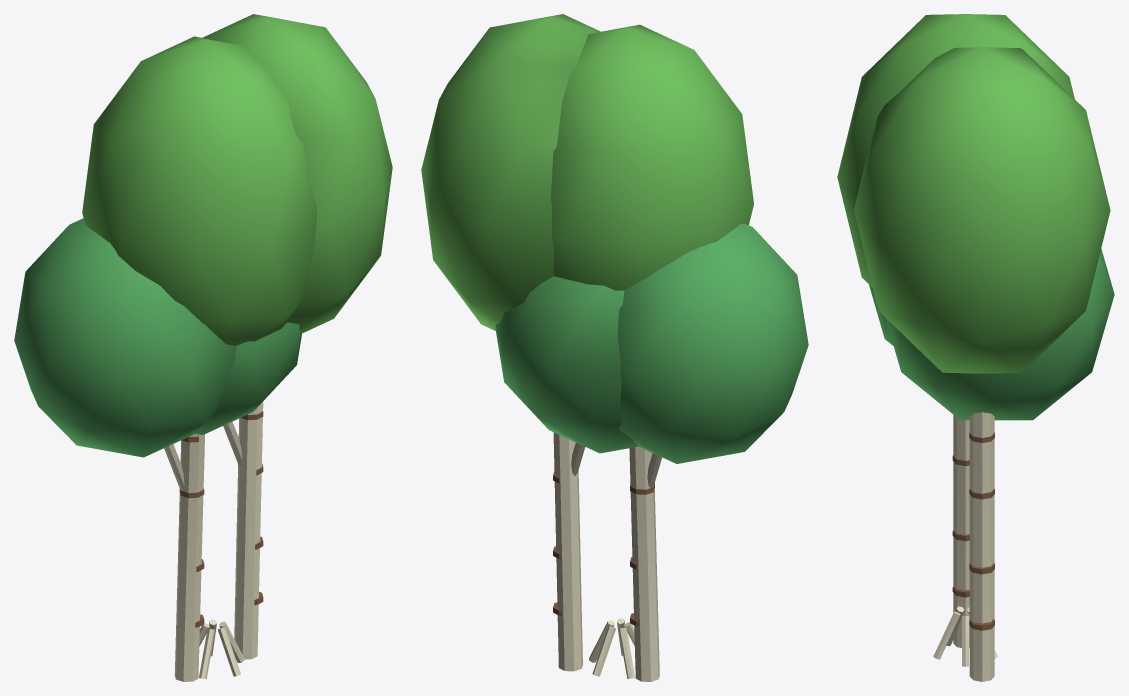
Rendered from tree-birch.glb.
The picture shows the model from 3 angles, left to right: view 1: azimuth 30°, elevation 25°; view 2: azimuth 150°, elevation 25°; view 3: azimuth 270°, elevation 25°; orthographic projection.
Visible parts, largest first — view 1: rounded crown.001, rounded crown, branch, birch bark; view 2: rounded crown.001, rounded crown, branch; view 3: rounded crown.001, rounded crown, branch, birch bark.
Boxes of the visible parts, box(x1,y1,x2,y2) form: rounded crown.001: box(82, 14, 392, 345); rounded crown: box(14, 218, 301, 457); branch: box(164, 401, 263, 681); birch bark: box(179, 411, 263, 627); rounded crown.001: box(421, 14, 753, 330); rounded crown: box(495, 223, 808, 463); branch: box(553, 432, 661, 681); rounded crown.001: box(837, 14, 1110, 373); rounded crown: box(869, 249, 1114, 420); branch: box(933, 412, 997, 681); birch bark: box(952, 432, 994, 630).
Size of the model in its own units: 1.93 by 3.41 by 1.34.
